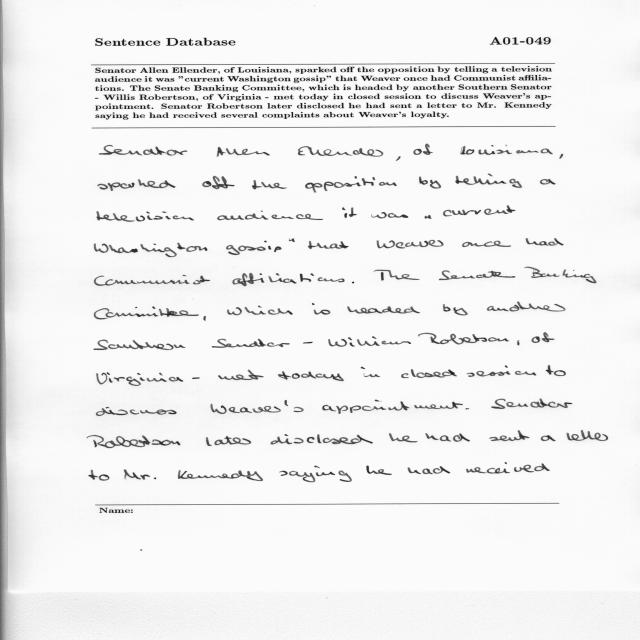word: (323, 399, 470, 414), (95, 243, 208, 257), (305, 176, 397, 193), (232, 273, 345, 286), (94, 307, 199, 320), (211, 400, 304, 414), (94, 275, 210, 286), (279, 466, 352, 483), (87, 435, 180, 448), (97, 372, 183, 386), (525, 267, 597, 283), (271, 434, 373, 445), (418, 333, 509, 345), (217, 211, 323, 221), (461, 144, 553, 155), (97, 212, 194, 222), (100, 145, 188, 156), (455, 174, 522, 188), (298, 146, 383, 157), (178, 470, 263, 481), (98, 179, 175, 191), (466, 463, 550, 474), (328, 336, 411, 347), (94, 340, 185, 350), (467, 365, 536, 377), (443, 206, 515, 217), (487, 302, 565, 312), (227, 241, 282, 255), (439, 271, 515, 281), (96, 407, 177, 416), (212, 339, 290, 348), (227, 306, 293, 316), (278, 371, 344, 381), (507, 399, 573, 408), (377, 240, 444, 248), (217, 147, 270, 157), (347, 307, 420, 314), (374, 270, 420, 281), (401, 369, 457, 378), (567, 430, 609, 441), (218, 370, 264, 380), (206, 436, 251, 446), (490, 431, 530, 442), (202, 176, 235, 189), (425, 433, 470, 442), (124, 469, 156, 480), (408, 466, 450, 474), (308, 241, 349, 249), (252, 180, 287, 189), (526, 238, 564, 246), (462, 241, 511, 247), (419, 176, 441, 189), (443, 304, 468, 315), (389, 433, 418, 442), (366, 465, 392, 475), (532, 332, 554, 343), (371, 212, 408, 218), (413, 144, 433, 155), (546, 366, 566, 377), (89, 470, 109, 481), (312, 303, 330, 314), (361, 367, 380, 377), (342, 207, 357, 218), (491, 399, 506, 409), (541, 435, 555, 441), (540, 179, 555, 184), (425, 215, 432, 219), (396, 156, 401, 161), (289, 238, 295, 242), (560, 154, 564, 159), (303, 342, 313, 344), (192, 377, 200, 379), (203, 316, 206, 320), (518, 341, 520, 346), (352, 282, 354, 284)
